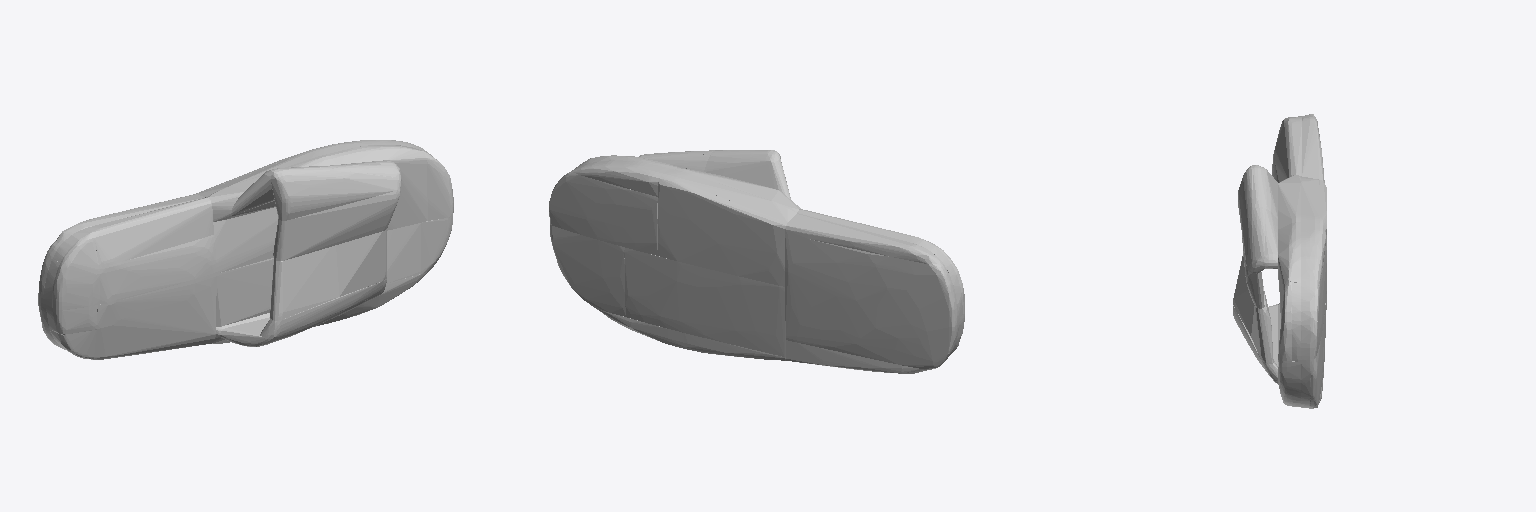
File: coacd_collision.obj
3 renders of one model, left to right at view 1: azimuth 30°, elevation 25°; view 2: azimuth 150°, elevation 25°; view 3: azimuth 270°, elevation 25°, orthographic.
Parts seen in each view (by area): view 1: geometry_3, geometry_12, geometry_4, geometry_6, geometry_14, geometry_15, geometry_24, geometry_29, geometry_19, geometry_7, geometry_13, geometry_10 (+12 smaller); view 2: geometry_2, geometry_28, geometry_30, geometry_36, geometry_41, geometry_0, geometry_27, geometry_25, geometry_1, geometry_23, geometry_18, geometry_22 (+3 smaller); view 3: geometry_24, geometry_12, geometry_25, geometry_0, geometry_14, geometry_18, geometry_13, geometry_27, geometry_34, geometry_33, geometry_23, geometry_37 (+6 smaller).
Boxes of the visible parts, x1=… form: geometry_3: x1=91, y1=273, x2=216, y2=359; geometry_12: x1=86, y1=197, x2=213, y2=266; geometry_4: x1=273, y1=188, x2=400, y2=260; geometry_6: x1=99, y1=235, x2=216, y2=303; geometry_14: x1=270, y1=170, x2=400, y2=220; geometry_15: x1=270, y1=245, x2=338, y2=320; geometry_24: x1=328, y1=145, x2=427, y2=230; geometry_29: x1=213, y1=207, x2=277, y2=273; geometry_19: x1=216, y1=258, x2=273, y2=326; geometry_7: x1=52, y1=233, x2=99, y2=310; geometry_13: x1=336, y1=229, x2=386, y2=296; geometry_10: x1=260, y1=279, x2=386, y2=337; geometry_2: x1=785, y1=234, x2=957, y2=368; geometry_28: x1=624, y1=248, x2=785, y2=356; geometry_30: x1=658, y1=176, x2=786, y2=286; geometry_36: x1=549, y1=171, x2=657, y2=255; geometry_41: x1=550, y1=225, x2=625, y2=316; geometry_0: x1=785, y1=214, x2=940, y2=264; geometry_27: x1=704, y1=150, x2=790, y2=198; geometry_25: x1=573, y1=160, x2=669, y2=196; geometry_1: x1=786, y1=340, x2=931, y2=373; geometry_23: x1=661, y1=169, x2=796, y2=222; geometry_18: x1=675, y1=167, x2=800, y2=212; geometry_22: x1=684, y1=333, x2=785, y2=360; geometry_24: x1=1278, y1=222, x2=1300, y2=317; geometry_12: x1=1274, y1=119, x2=1301, y2=182; geometry_25: x1=1301, y1=225, x2=1325, y2=287; geometry_0: x1=1302, y1=114, x2=1324, y2=182; geometry_14: x1=1238, y1=165, x2=1252, y2=272; geometry_18: x1=1278, y1=175, x2=1300, y2=228; geometry_13: x1=1251, y1=286, x2=1273, y2=363; geometry_27: x1=1253, y1=165, x2=1277, y2=218; geometry_34: x1=1301, y1=288, x2=1313, y2=358; geometry_33: x1=1278, y1=359, x2=1300, y2=402; geometry_23: x1=1301, y1=176, x2=1318, y2=224; geometry_37: x1=1278, y1=281, x2=1291, y2=360.
Size of the model in its own units: 265 by 117 by 53.67.